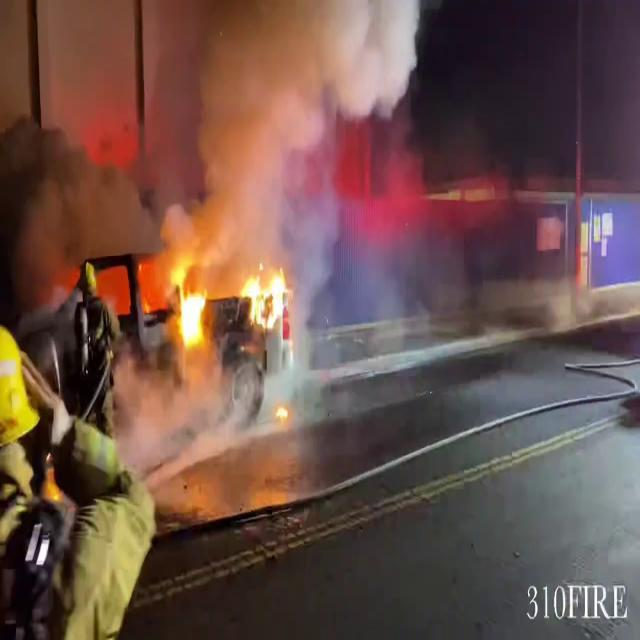Fire: (238, 262, 293, 341), (165, 261, 212, 352)
Smoke: (134, 0, 434, 256)
